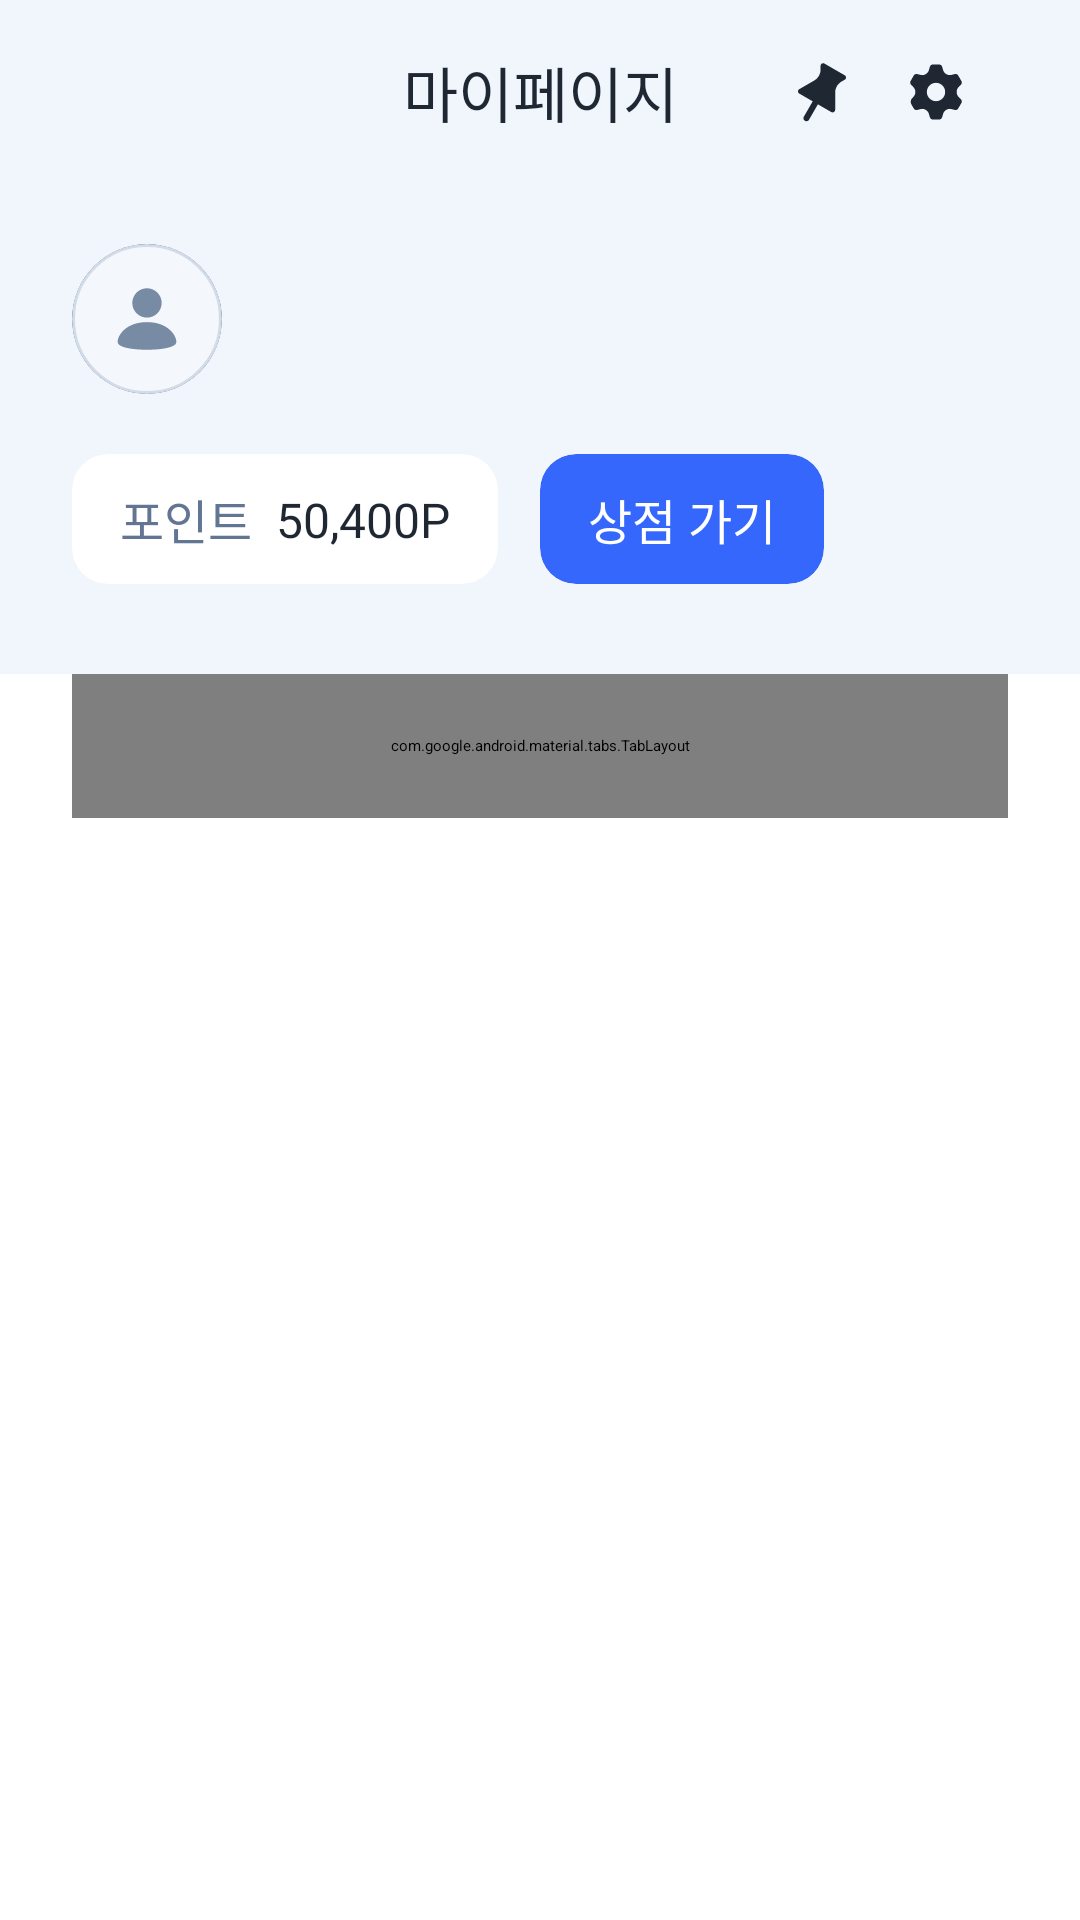

Screen size 1080x1920. Icon name, then its center in pixels as point (x, y):
setting: point (936, 92)
